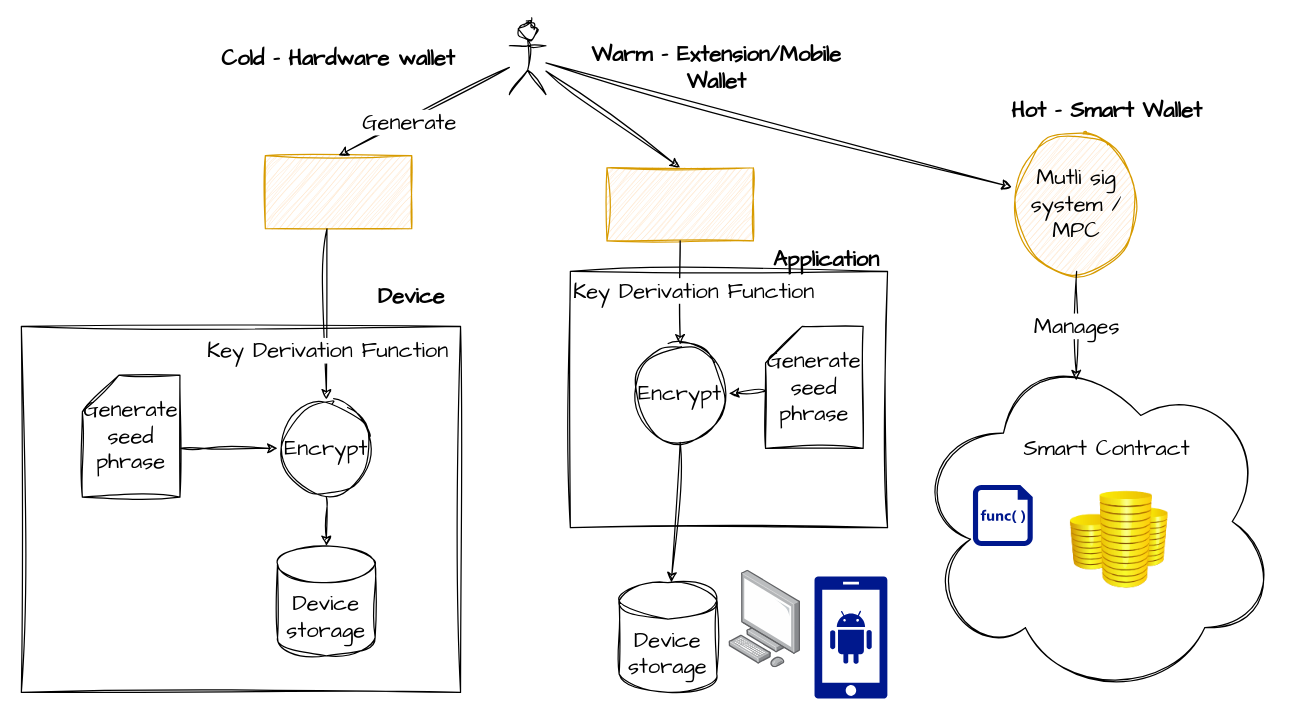
This 1299x720 diagram has some shape labels left out. Each missing label, with the centre of its shape:
Passphrase: point (679, 204)
PIN: point (338, 191)
User: point (527, 57)
